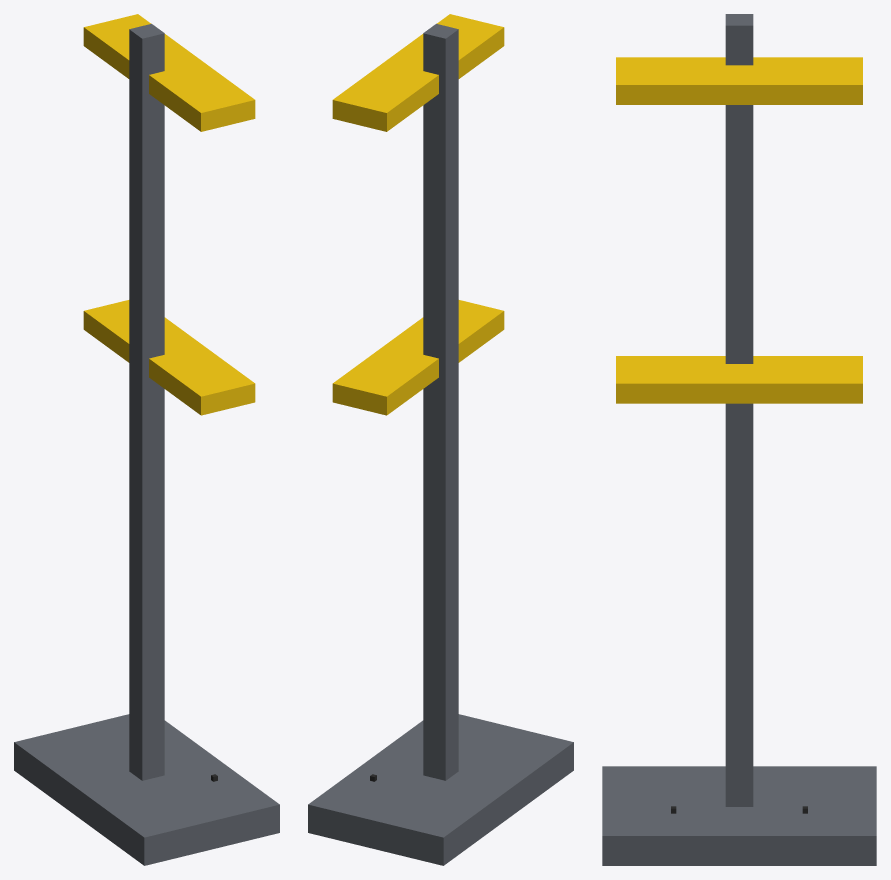
The model's file is ENV_PoleRack.fbx.
The picture shows the model from 3 angles, left to right: view 1: azimuth 30°, elevation 25°; view 2: azimuth 150°, elevation 25°; view 3: azimuth 270°, elevation 25°; orthographic projection. The views are drawn at different scales.
Visible parts, largest first — view 1: Upright, ENV_PoleRack, Cradle_2, Cradle_1; view 2: Upright, ENV_PoleRack, Cradle_2, Cradle_1; view 3: ENV_PoleRack, Upright, Cradle_1, Cradle_2.
Part boxes in pixels (bbox=[...]): Upright: bbox=[129, 23, 164, 780]; ENV_PoleRack: bbox=[14, 714, 279, 865]; Cradle_2: bbox=[83, 14, 255, 131]; Cradle_1: bbox=[83, 300, 255, 415]; Upright: bbox=[423, 23, 458, 780]; ENV_PoleRack: bbox=[308, 714, 573, 865]; Cradle_2: bbox=[332, 14, 504, 131]; Cradle_1: bbox=[332, 300, 504, 415]; ENV_PoleRack: bbox=[602, 766, 876, 865]; Upright: bbox=[725, 14, 753, 806]; Cradle_1: bbox=[616, 356, 862, 403]; Cradle_2: bbox=[616, 57, 862, 104].
Bounding box in the file's own units: 0.3 × 1.63 × 0.5.
Materials: 3 (3 with a texture image).
